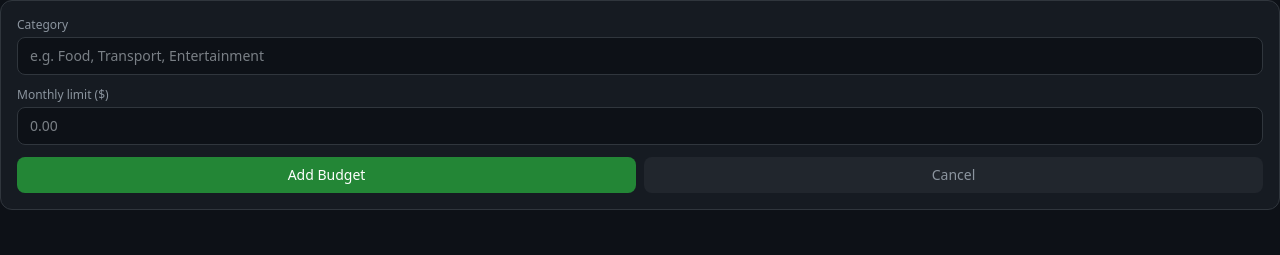
Test: BudgetForm › does not submit with negative limit
Step 1. Type "Food" into the field labelled "Category" → (640,56), box x1=17 y1=37 x2=1263 y2=75
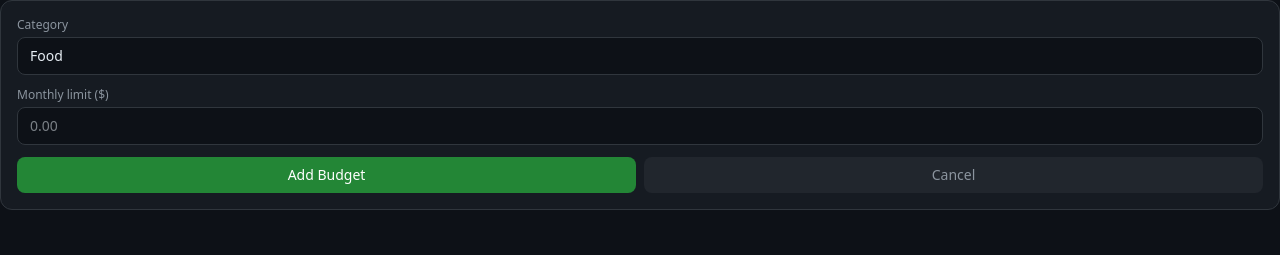
Step 2. Type "-50" into the number field labelled "Monthly limit ($)" → (640,126), box x1=17 y1=107 x2=1263 y2=145
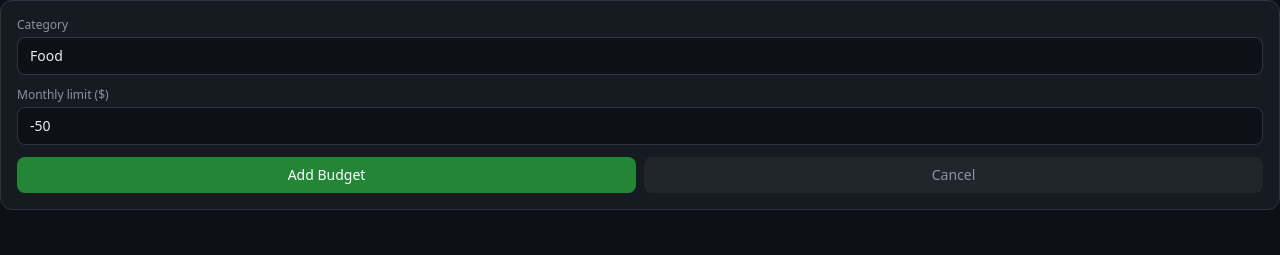
Step 3. Submit the form
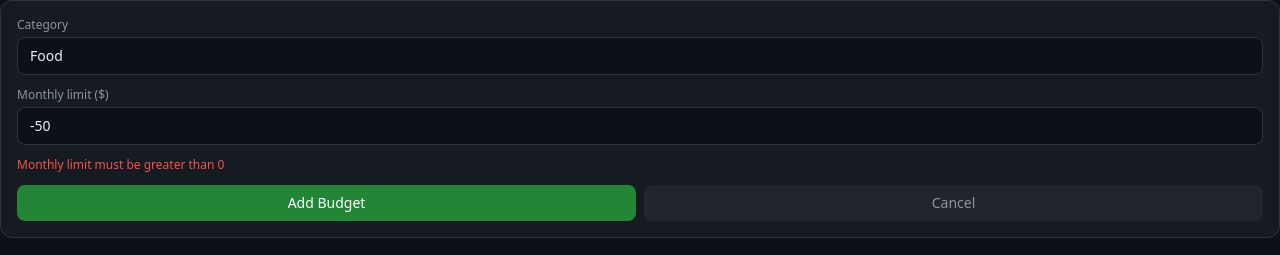
expect the message reads "Monthly limit must be greater than 0": met, box x1=17 y1=156 x2=224 y2=173
